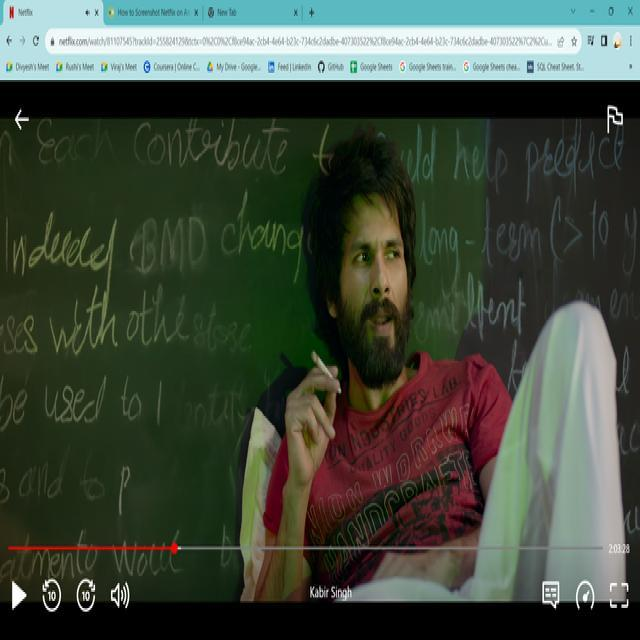smoking: (305, 344, 344, 396)
